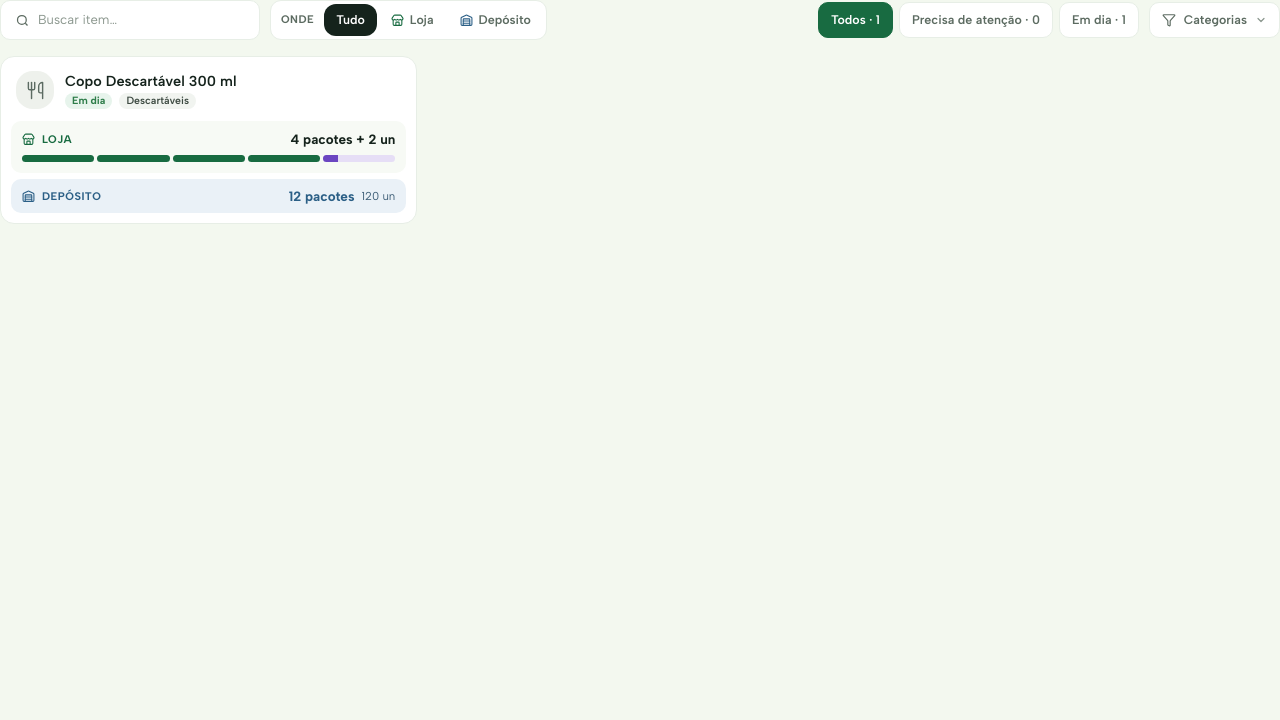
Test: EstoqueClient › per-unit items (Ajustar embalagem aberta) › opens the adjust dialog (not the detail sheet) from the Loja row
Step 1. Click the button titled "Ajustar embalagem aberta" → (57, 139), box [11, 121, 406, 173]
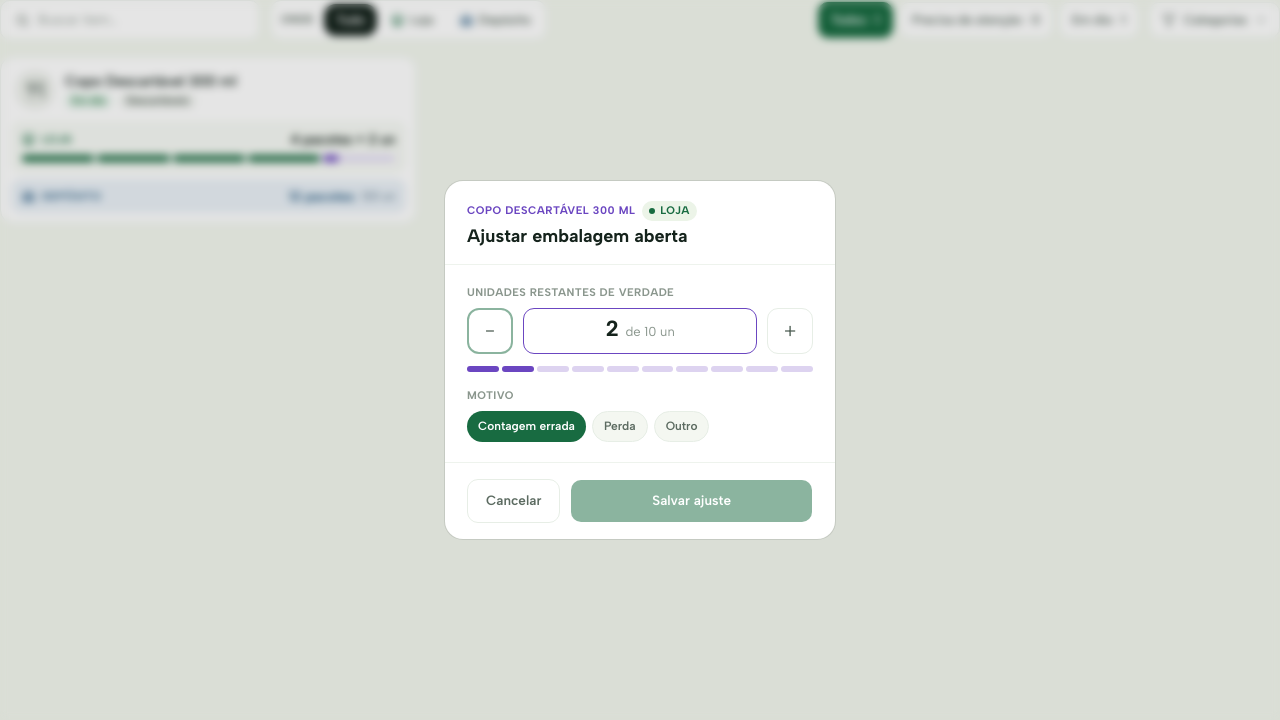
Check: the text "Loja" is shown, box [642, 201, 697, 221]
Check: the text "de 10 un" is shown, box [626, 323, 675, 342]
Check: the button "Salvar ajuste" is disabled, box [570, 479, 813, 523]
